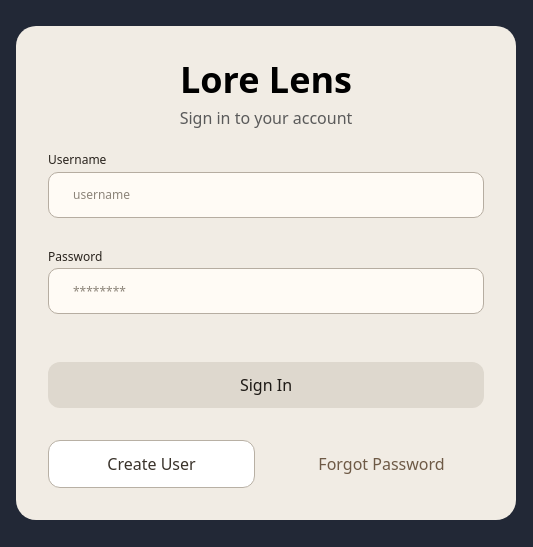
LoginPage › validation › shows "Username is required." and moves focus to the username field when only username is missing
Type "strongPassword" into the password field labelled "Password". click: (266, 291)
box: top-left (48, 268), bottom-right (484, 314)
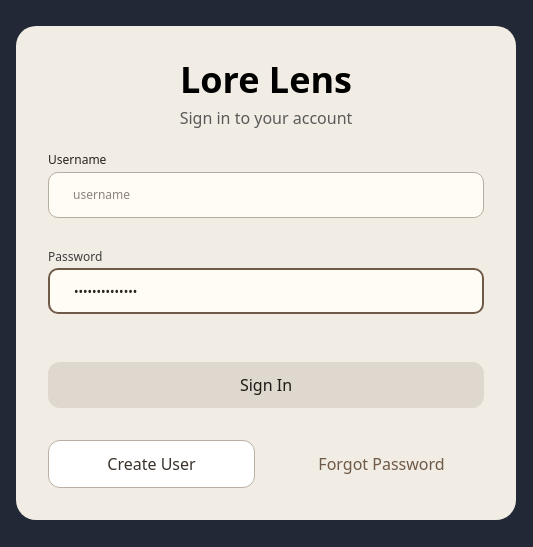
Click the button "Sign In". click: click(266, 385)
box: top-left (48, 362), bottom-right (484, 408)
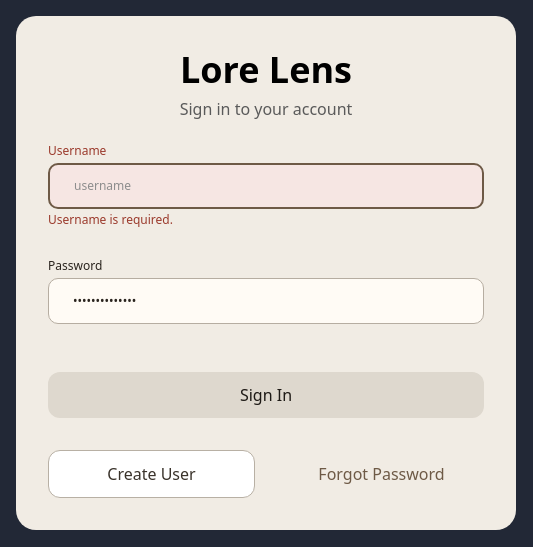
Expected: the text "Username is required." is shown, top-left (48, 211), bottom-right (173, 228)
